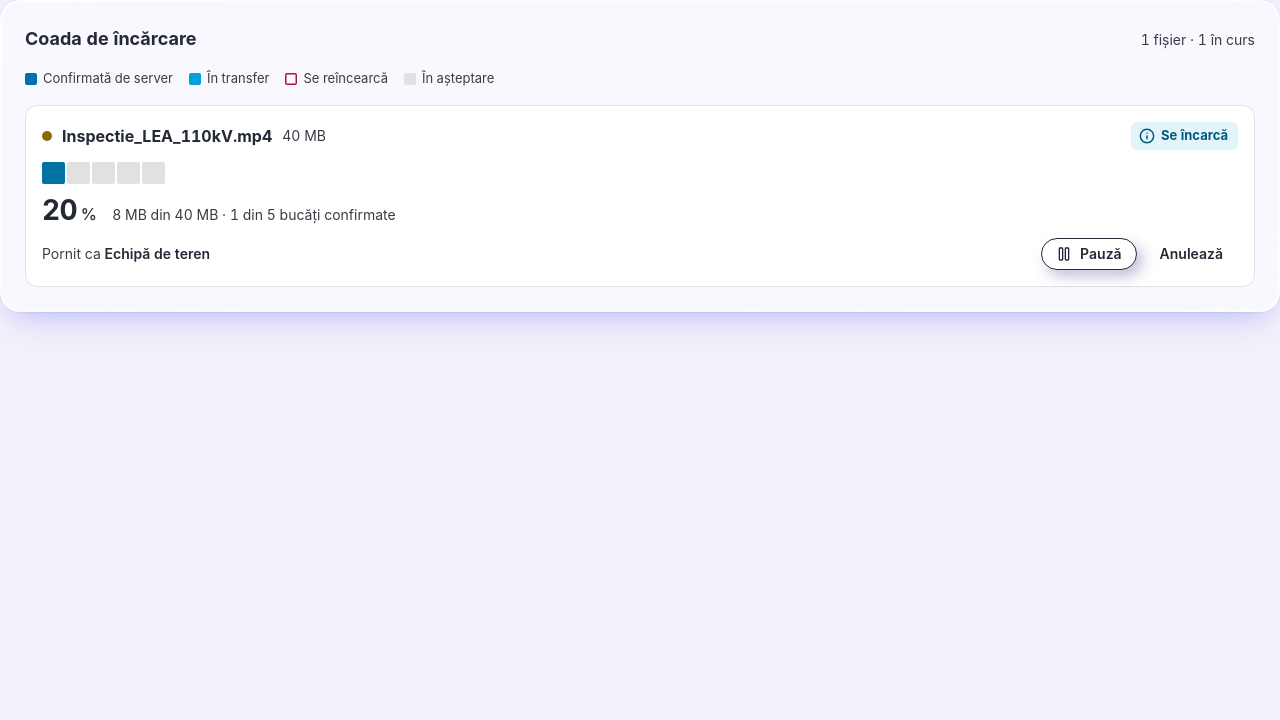
Scenario: UploadQueue › asks before cancelling an upload in progress
This screenshot has width=1280, height=720.
Later steps or results of the test are not shown.
Click the button named "Anulează Inspectie_LEA_110kV.mp4".
click(1191, 254)  # box [1145,238,1238,270]
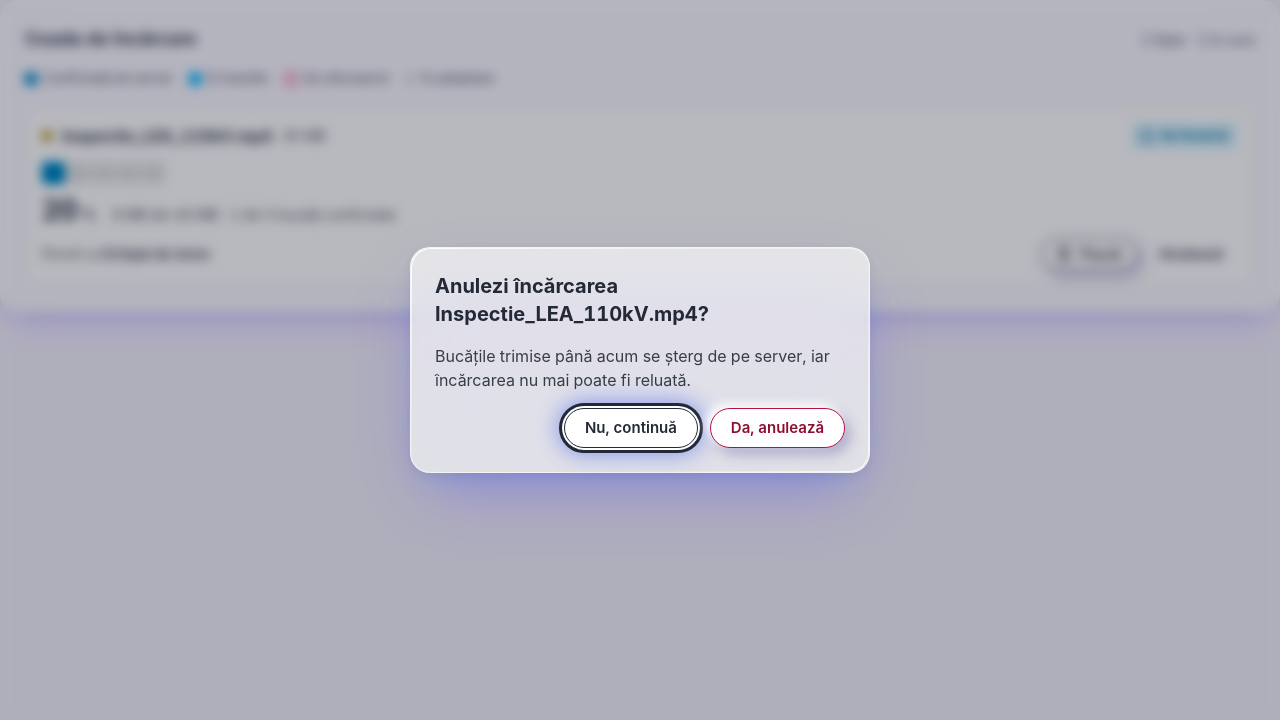
Result: the heading "Anulezi încărcarea Inspectie_LEA_110kV.mp4 ?" is shown at [435,274,709,326]
